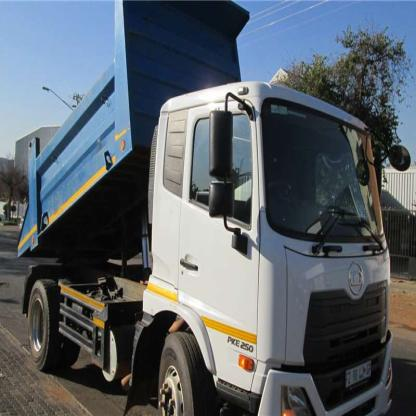dump_truck: (11, 1, 400, 415)
